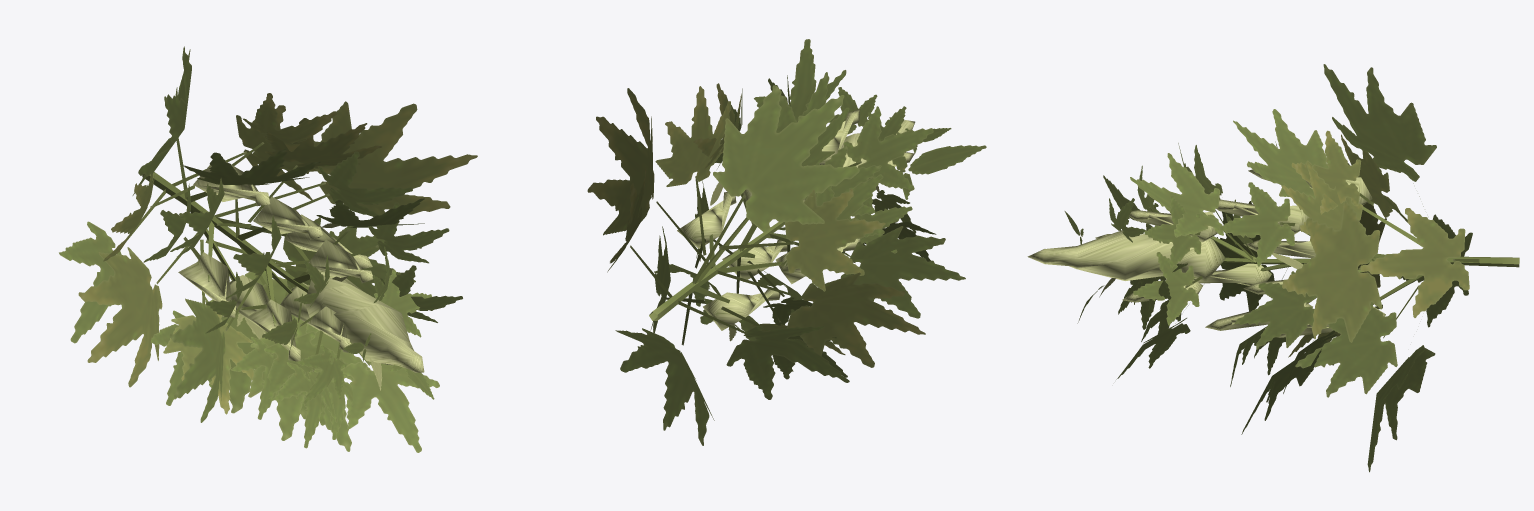
The model's file is p_frosty_hybrid_ripe_c1_cards.obj.
3 renders of one model, left to right at view 1: azimuth 30°, elevation 25°; view 2: azimuth 150°, elevation 25°; view 3: azimuth 270°, elevation 25°, orthographic. The views are drawn at different scales.
Bounding box in the file's own units: 1.58 × 1.63 × 1.65.
1 material, 1 textured.
